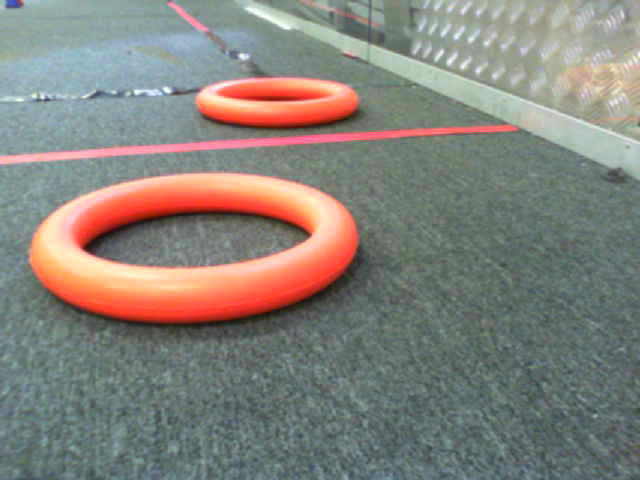Note: (30, 175, 367, 333), (202, 75, 364, 132)
